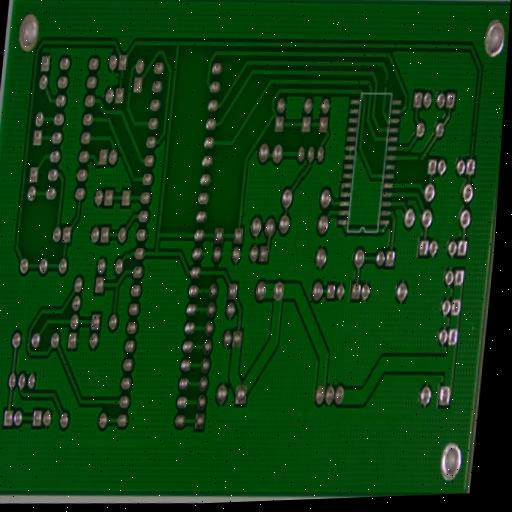open_circuit: (416, 153, 424, 164), (471, 129, 477, 140), (383, 78, 388, 90)
